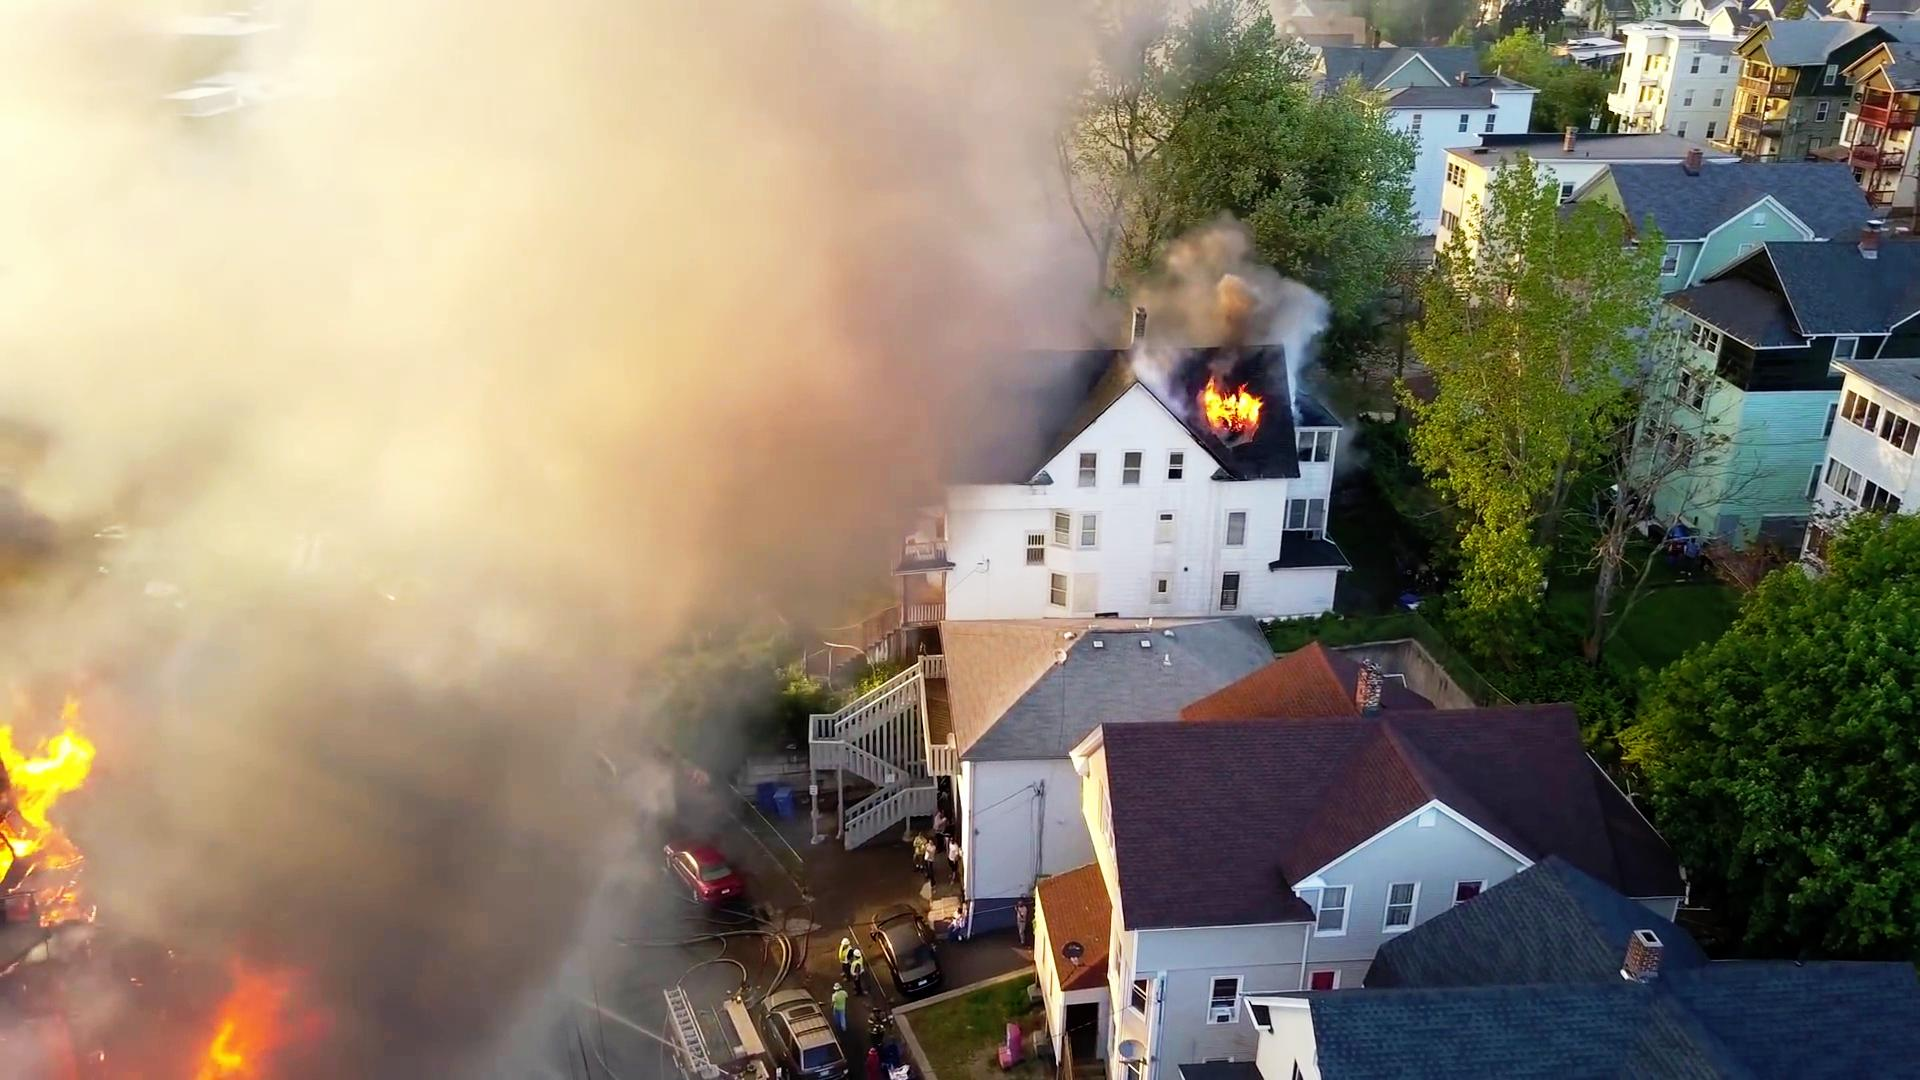fire: (0, 694, 116, 902), (1208, 368, 1273, 444)
smoke: (141, 47, 680, 906)
